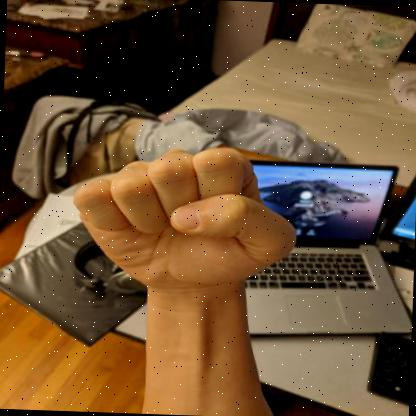S: (73, 148, 296, 296)
